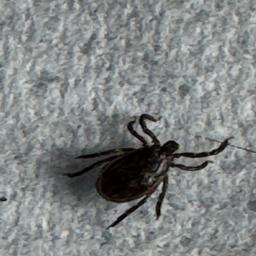Ixodes scapularis: (166, 67, 256, 224)
